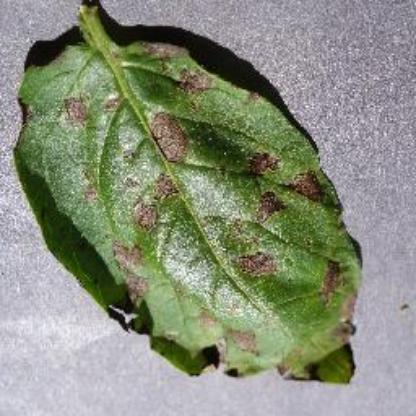Early-Blight: (8, 0, 372, 388)
